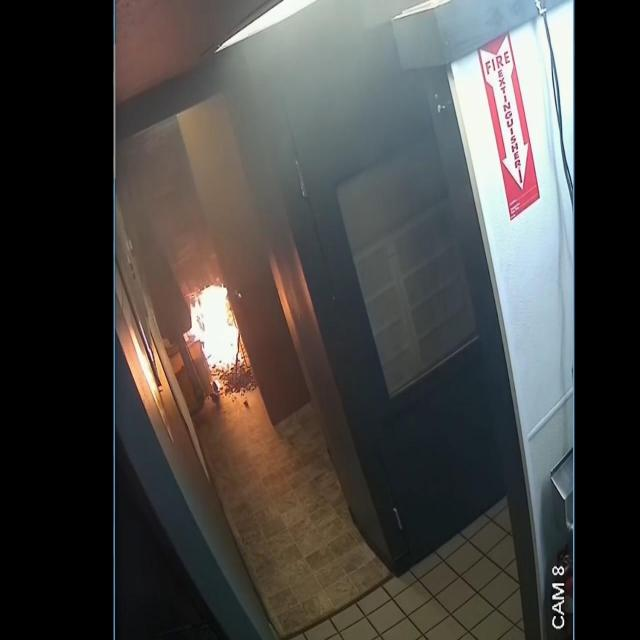fire: (189, 284, 243, 368)
